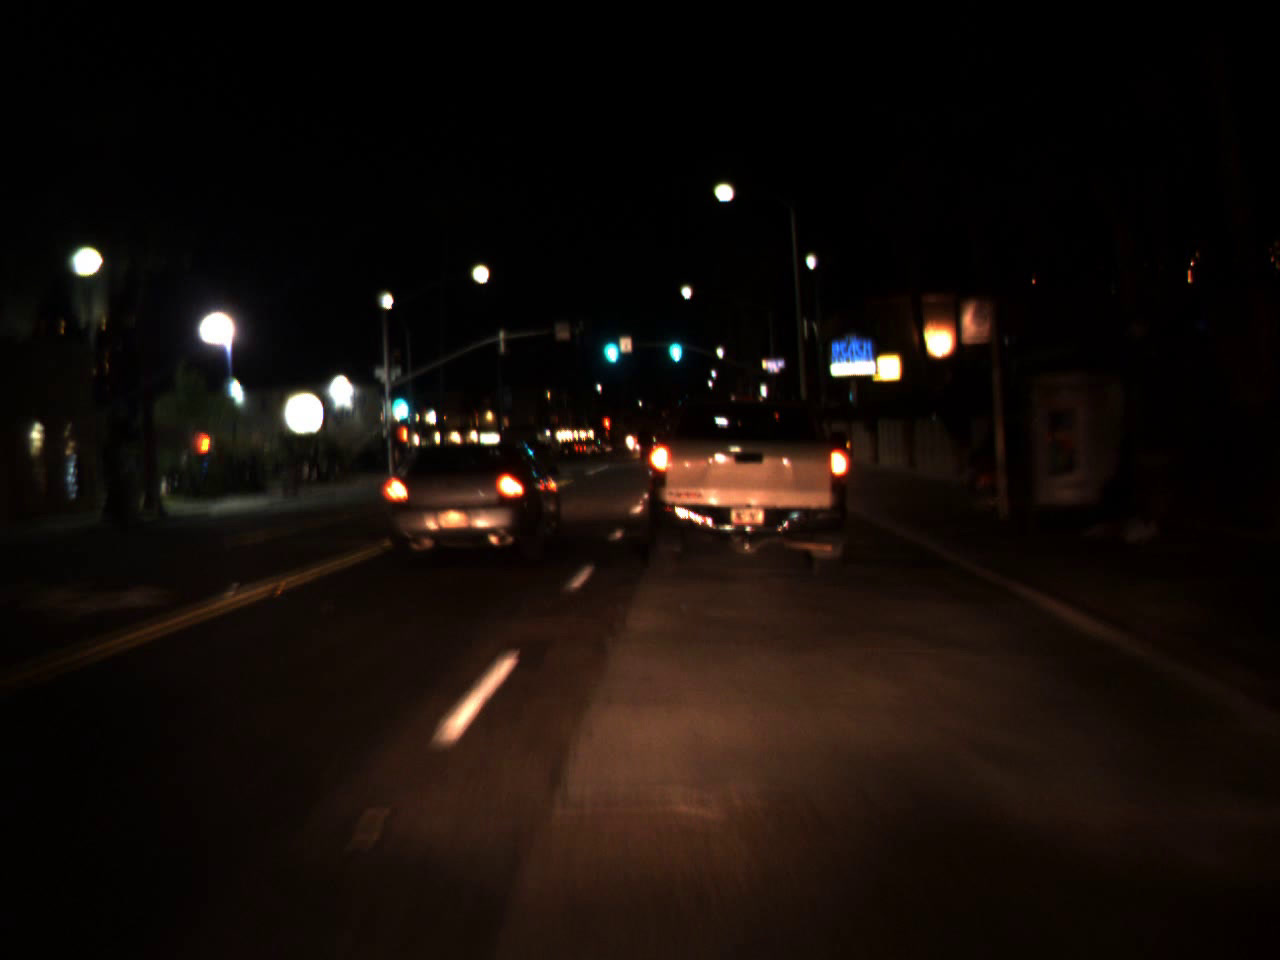go: (598, 317, 621, 371), (386, 376, 411, 421), (664, 320, 683, 368)
